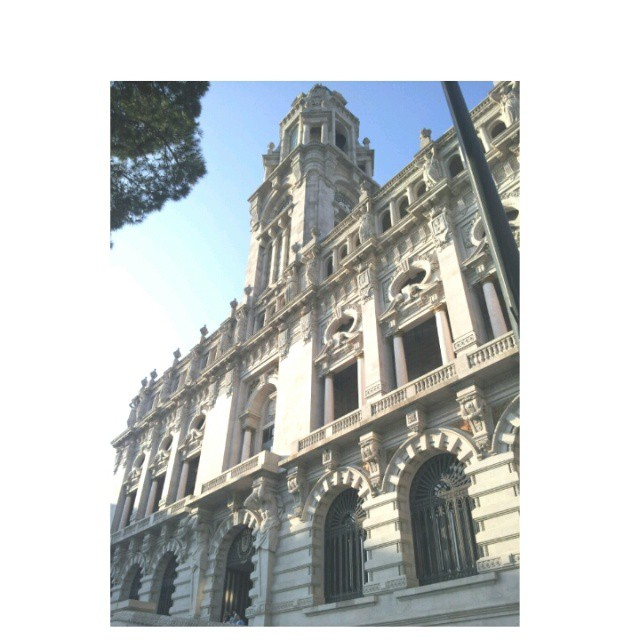camara: (110, 82, 520, 627)
